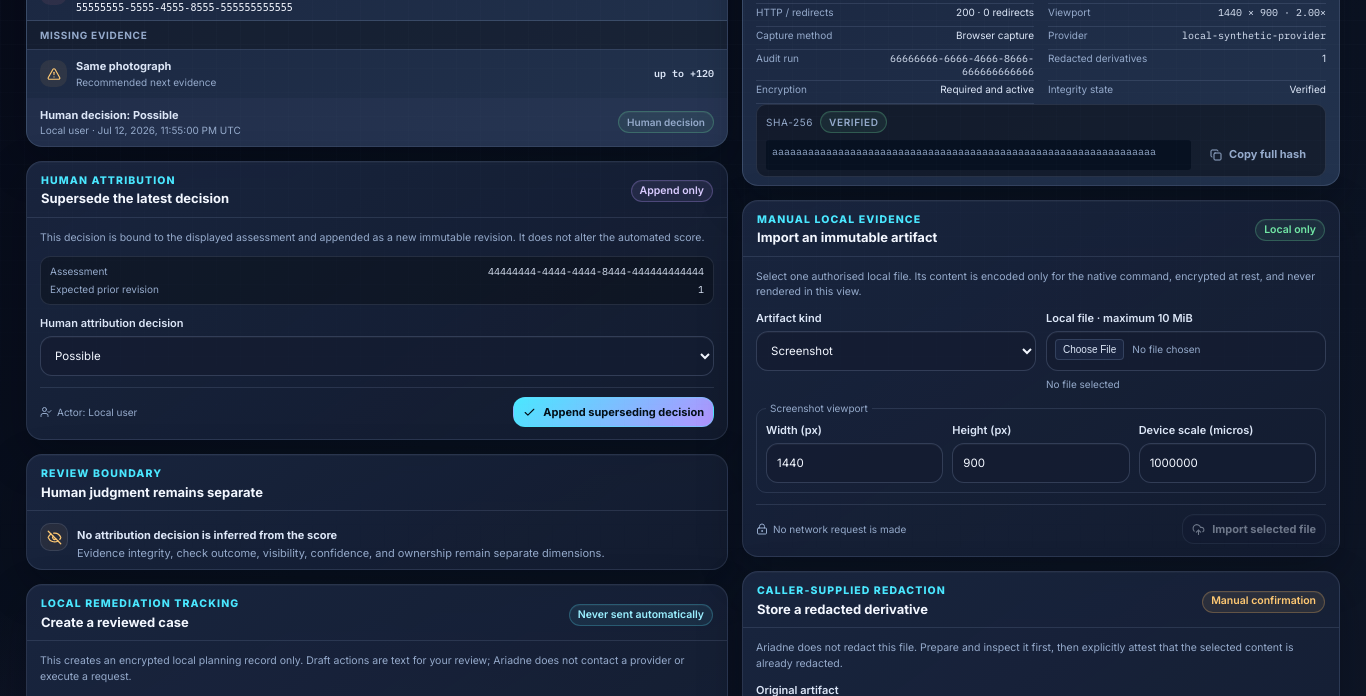
native Phase 5 findings UI › supersedes exactly the displayed prior human decision revision
(page scrolled)
Select "Confirmed non match" in the dropdown labelled "Human attribution decision". click: (377, 356)
box: [40,336,714,376]
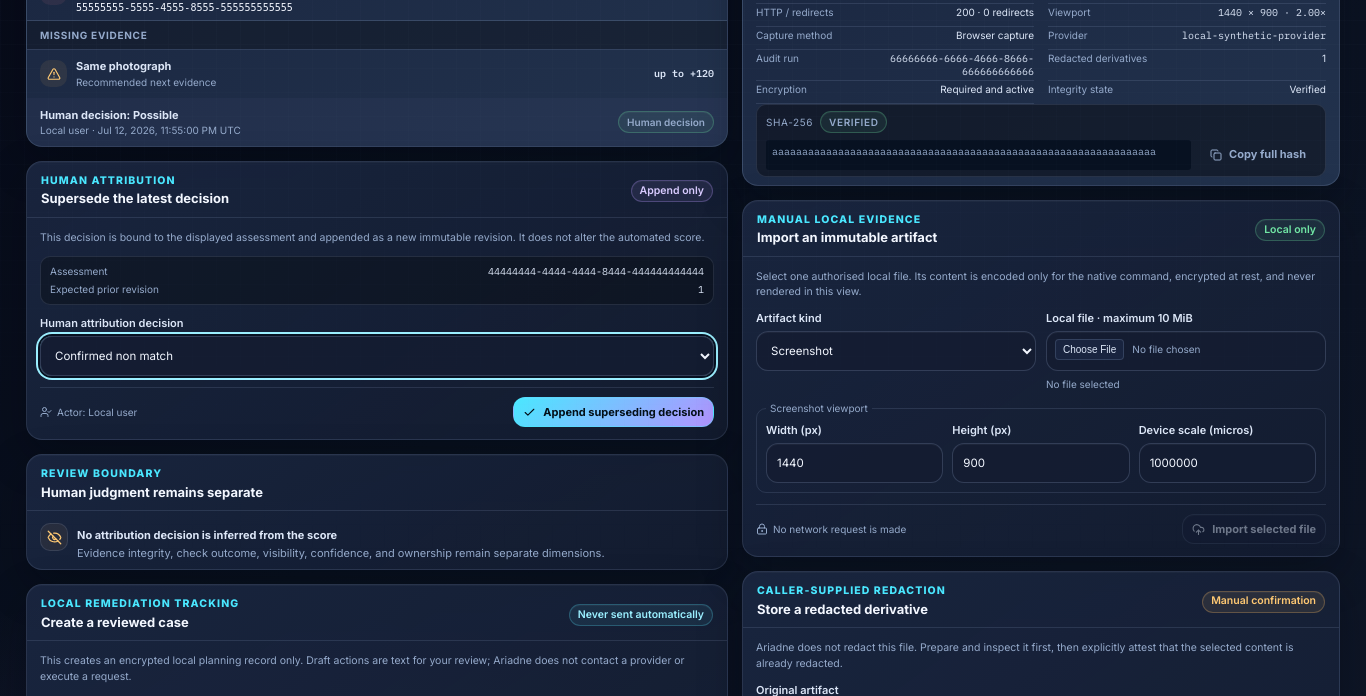
Click the button "Append superseding decision". click: (614, 412)
box: [513,397,714,427]
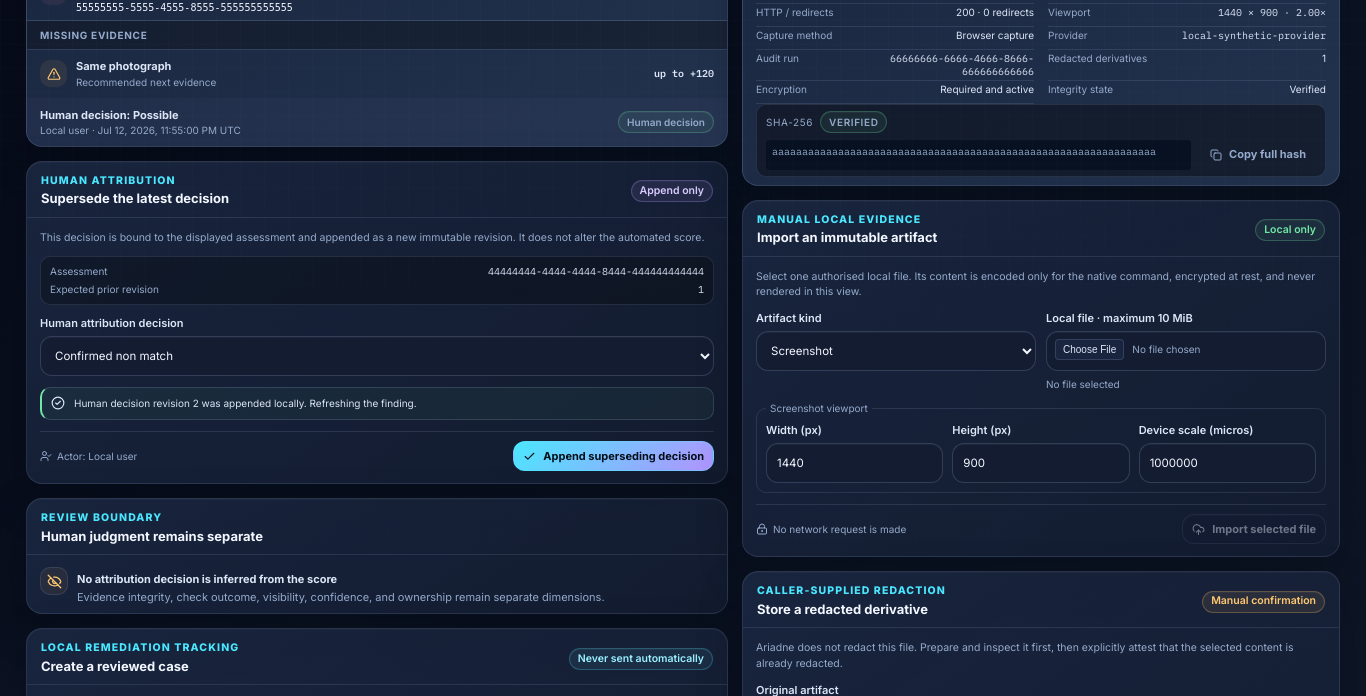
Result: the text "decision revision 2 was appended locally" is shown at [74,397,417,409]
